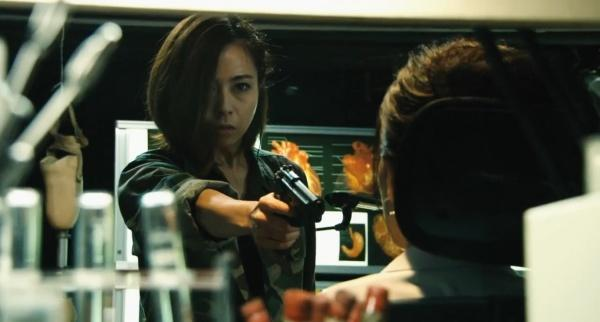Gun: (271, 164, 324, 226)
